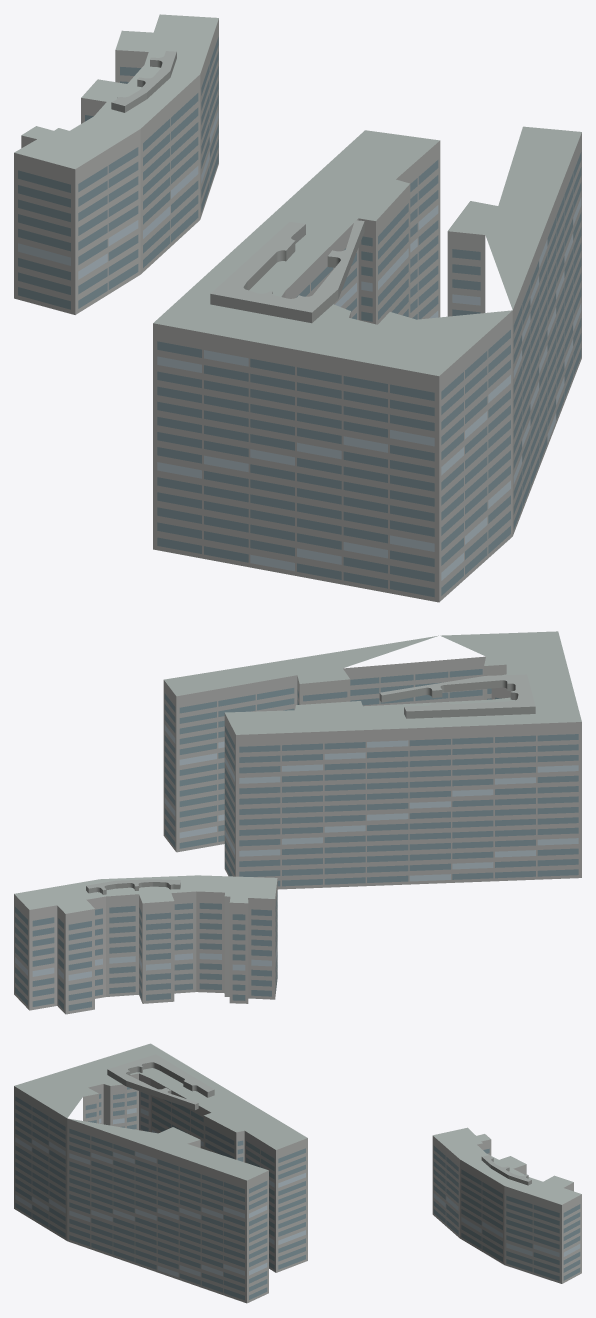
The model's file is apt-a14021001.glb.
3 renders of one model, top to bottom at view 1: azimuth 30°, elevation 25°; view 2: azimuth 150°, elevation 25°; view 3: azimuth 270°, elevation 25°, orthographic. The views are drawn at different scales.
Visible parts, largest first — view 1: apt-a14021001; view 2: apt-a14021001; view 3: apt-a14021001.
Part boxes in pixels (x1=…): apt-a14021001: x1=14, y1=14, x2=581, y2=602; apt-a14021001: x1=14, y1=631, x2=581, y2=1014; apt-a14021001: x1=14, y1=1043, x2=581, y2=1303.
Size of the model in its own units: 103 by 45 by 180.
